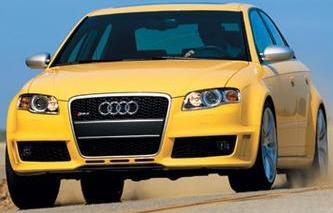front_view: (6, 85, 253, 168)
headlight: (15, 91, 61, 118)
side_glass: (246, 4, 293, 65)
